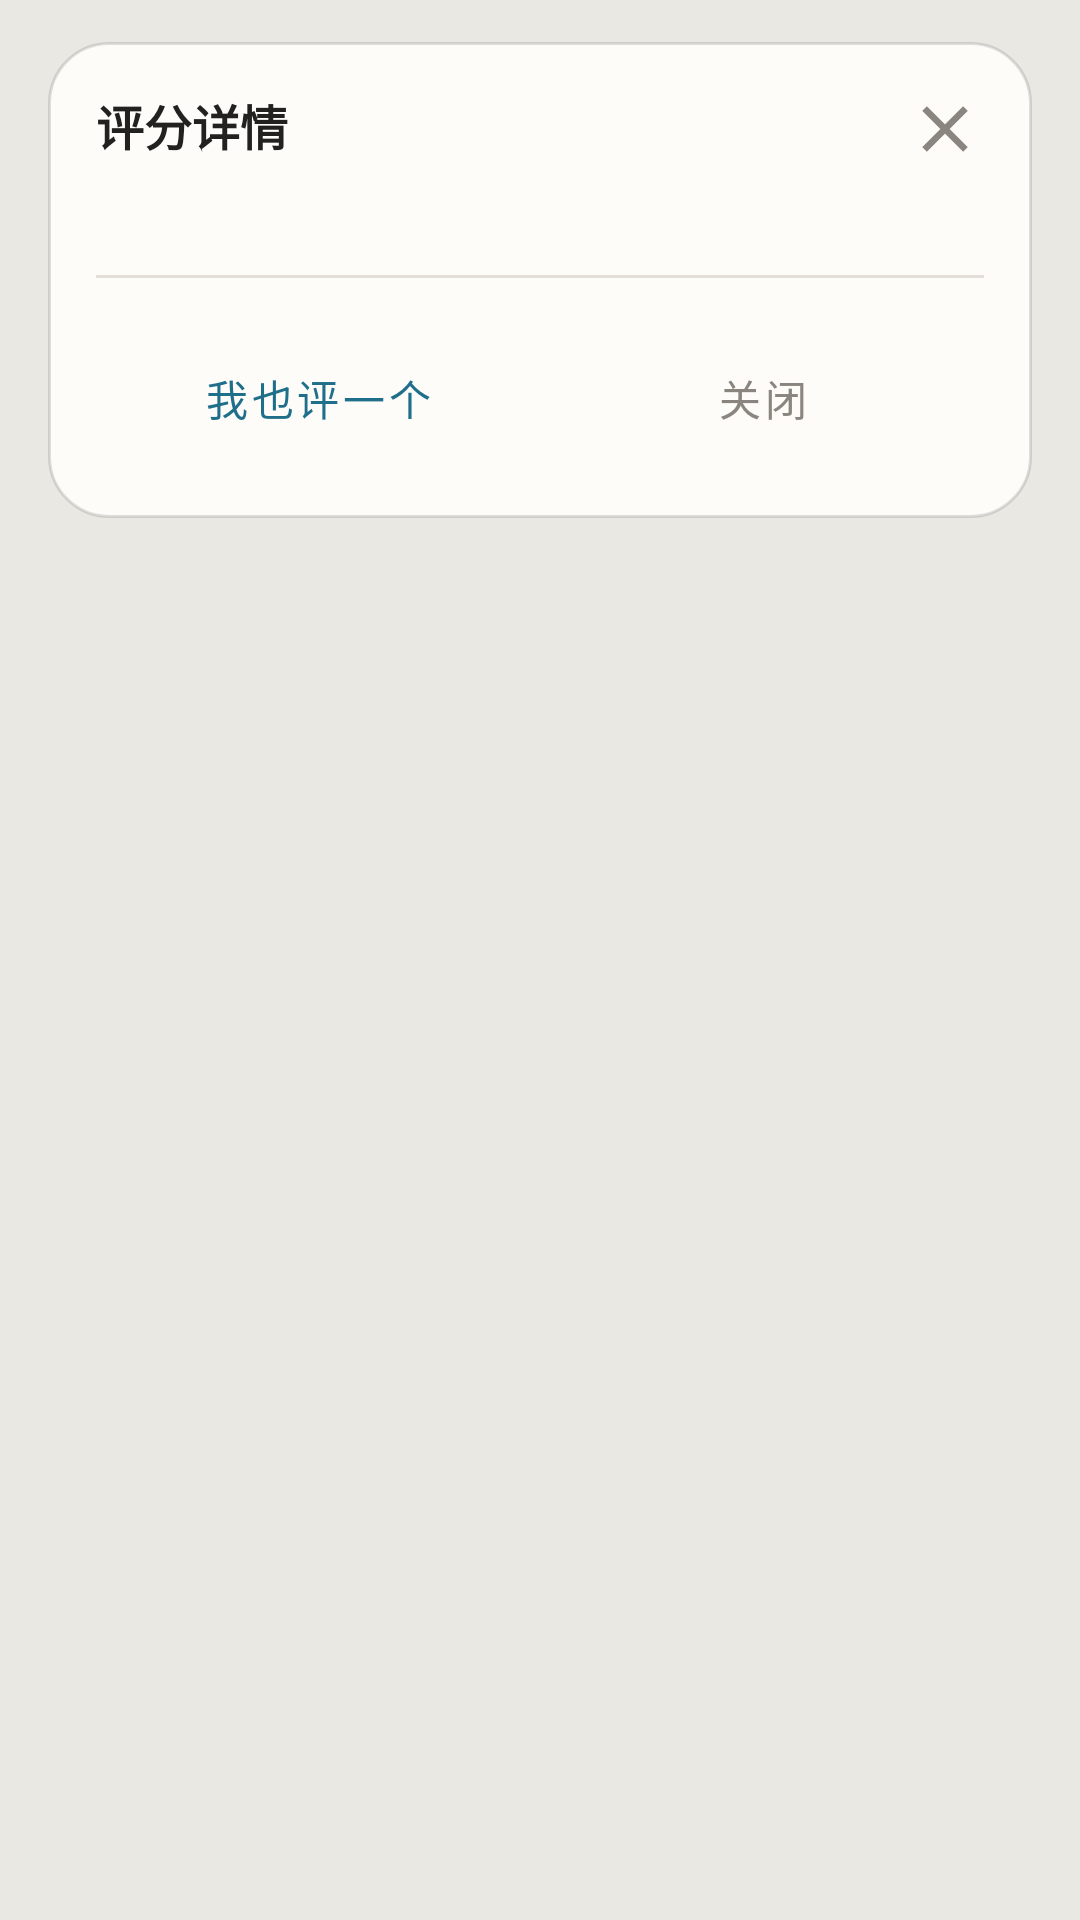

Named icons in this screenshot (1080×1920) and their bounding boxes, (x1=x1, y1=y1, x2=x2, y2=y2):
关闭: (x1=922, y1=106, x2=968, y2=152)
